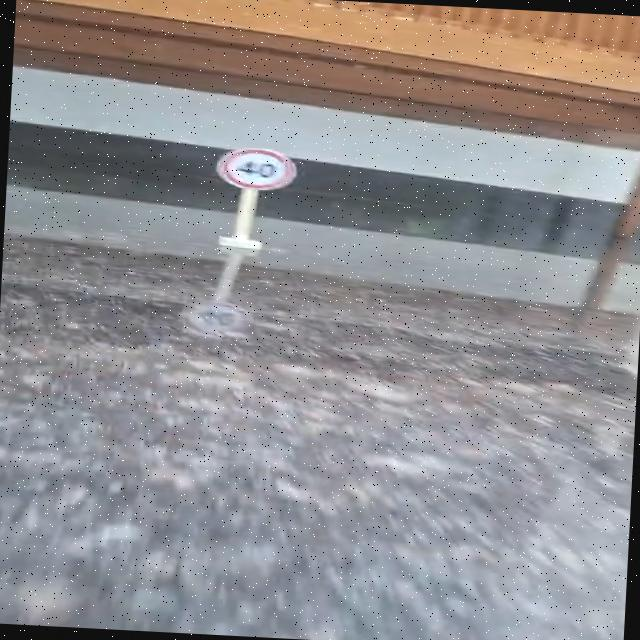Speed40: (213, 142, 302, 195)
